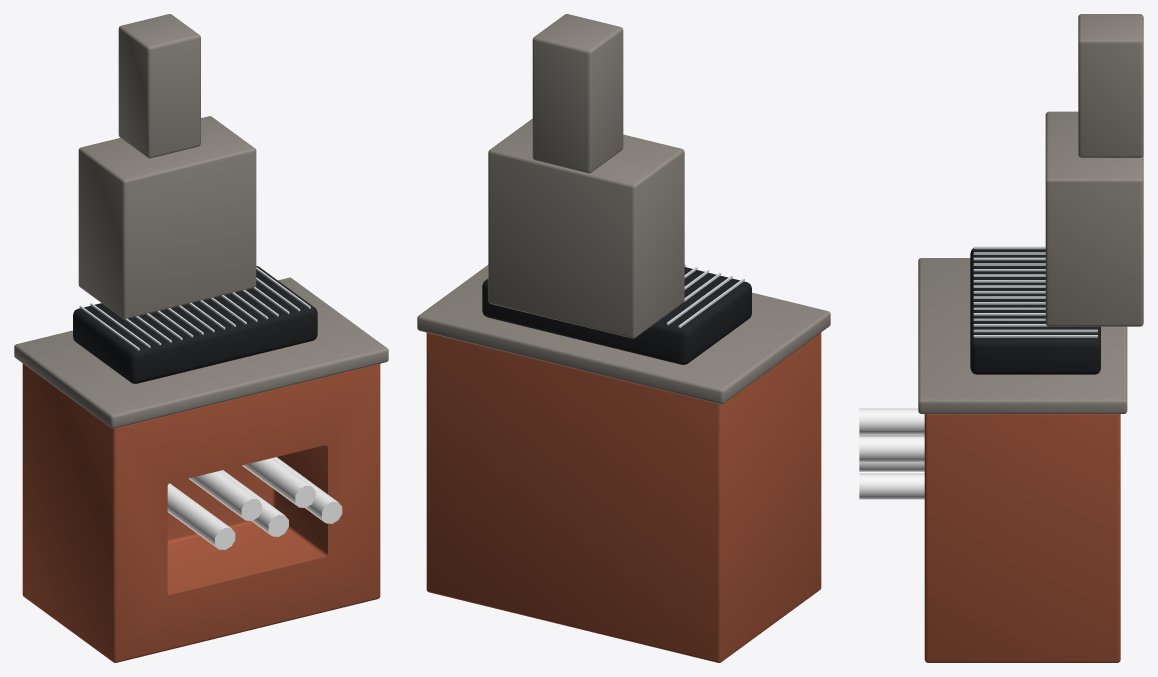
Rendered from churrasqueira.glb.
3 renders of one model, left to right at view 1: azimuth 30°, elevation 25°; view 2: azimuth 150°, elevation 25°; view 3: azimuth 270°, elevation 25°, orthographic. The views are drawn at different scales.
Parts seen in each view (by area): view 1: p; view 2: p; view 3: p.
Part boxes in pixels (x1,y1,x2,y2): p: (14,14,388,662); p: (417,14,830,662); p: (859,14,1143,662).
Size of the model in its own units: 1.04 by 1.92 by 0.87.
